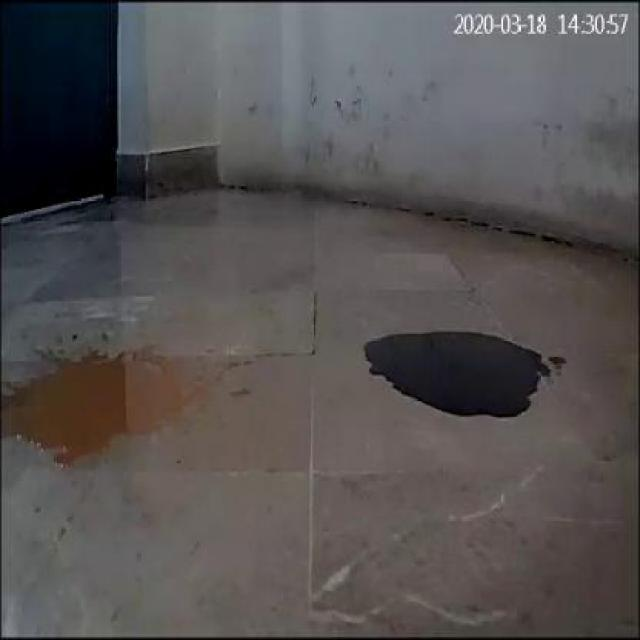spill: (8, 346, 202, 468), (362, 330, 553, 422)
